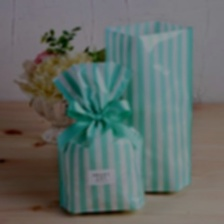snack: (100, 14, 200, 198), (46, 55, 152, 220)
